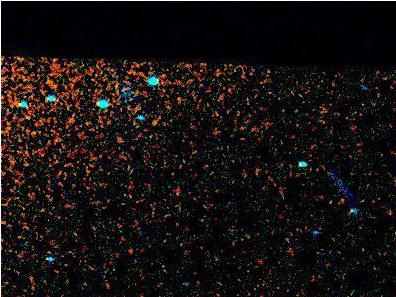star: (317, 190, 347, 220)
